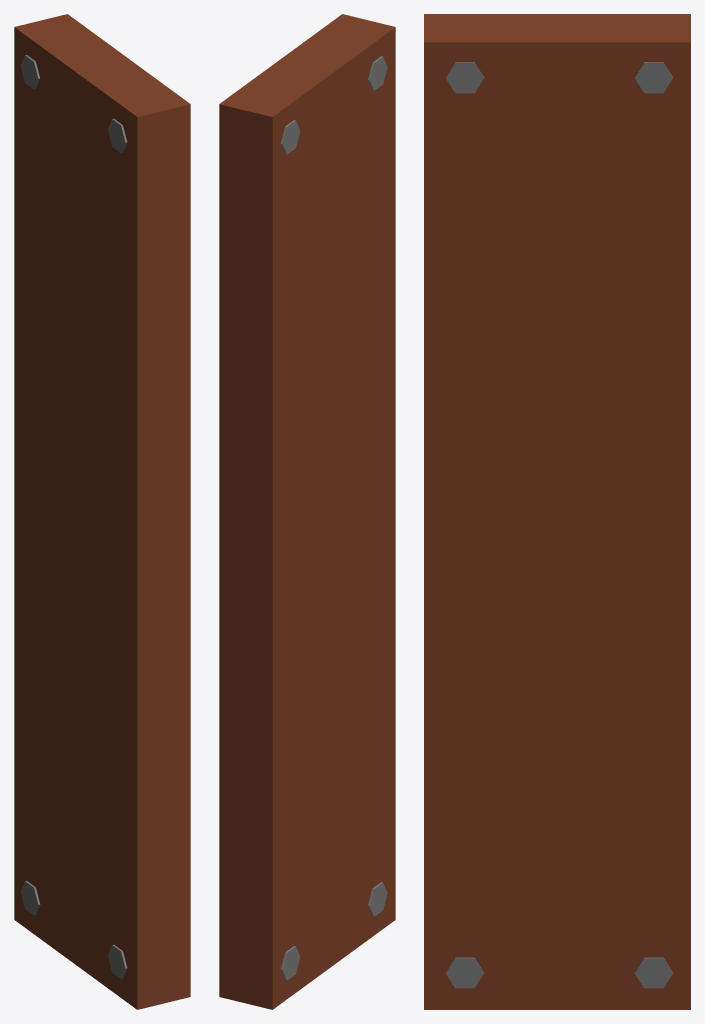
The model's file is Plank.glb.
3 renders of one model, left to right at view 1: azimuth 30°, elevation 25°; view 2: azimuth 150°, elevation 25°; view 3: azimuth 270°, elevation 25°, orthographic. The views are drawn at different scales.
Visible parts, largest first — view 1: Cube, Bolt, Bolt.002, Bolt.003, Bolt.001; view 2: Cube, Bolt.003, Bolt.001, Bolt.002, Bolt; view 3: Cube, Bolt, Bolt.001, Bolt.003, Bolt.002.
Part boxes in pixels (x1,y1,x2,y2): Cube: (14,14,190,1009); Bolt: (20,55,40,89); Bolt.002: (20,881,40,915); Bolt.003: (108,944,127,979); Bolt.001: (108,119,127,153); Cube: (219,14,395,1009); Bolt.003: (368,882,387,916); Bolt.001: (368,56,387,90); Bolt.002: (281,946,300,980); Bolt: (281,120,300,154); Cube: (424,14,690,1009); Bolt: (634,62,672,93); Bolt.001: (445,62,484,93); Bolt.003: (445,957,483,988); Bolt.002: (634,957,672,988).
Bounding box in the file's own units: 0.5291 × 8 × 2.
